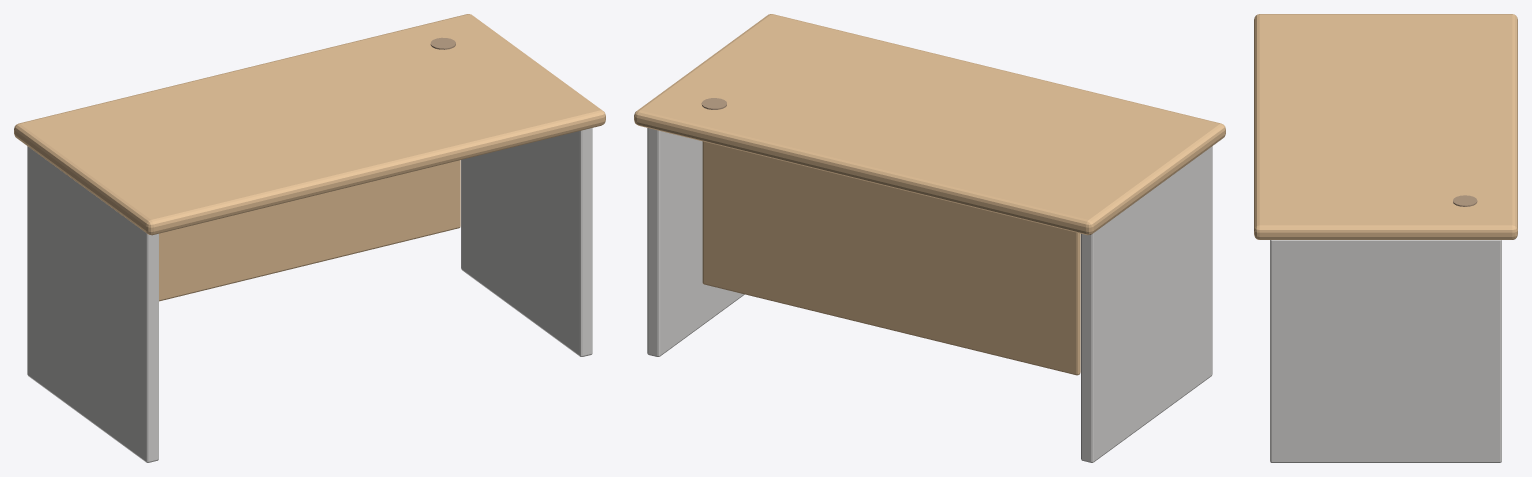
File: isometric_workstation_variations_guide_19.glb
3 renders of one model, left to right at view 1: azimuth 30°, elevation 25°; view 2: azimuth 150°, elevation 25°; view 3: azimuth 270°, elevation 25°, orthographic. The views are drawn at different scales.
Parts seen in each view (by area): view 1: Cube; view 2: Cube; view 3: Cube.
Part boxes in pixels (x1,y1,x2,y2): Cube: [14, 14, 605, 462]; Cube: [634, 14, 1225, 462]; Cube: [1254, 14, 1517, 462].
Bounding box in the file's own units: 1.45 × 0.754 × 0.75.
